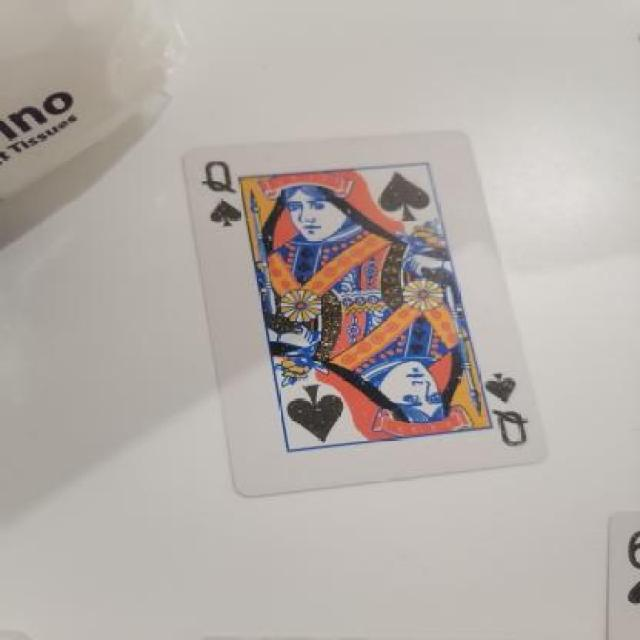QS: (464, 368, 553, 450), (195, 152, 252, 238)
